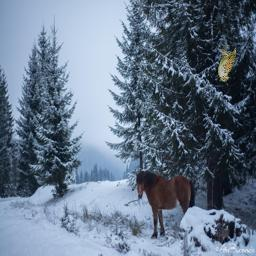Sparrow: (218, 45, 236, 82)
